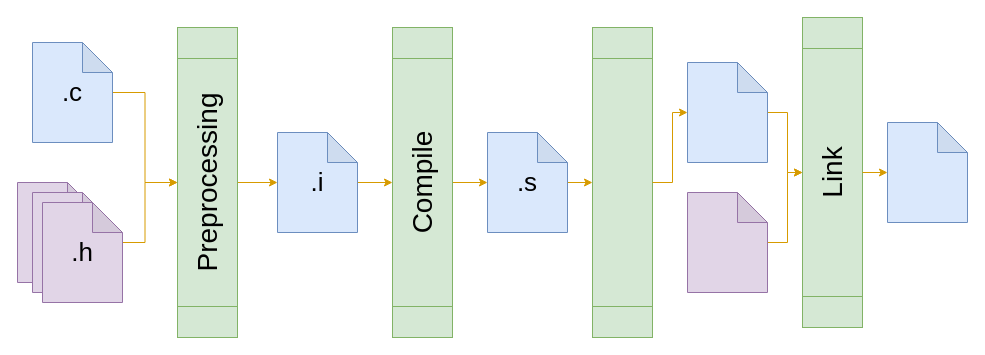
This 985x355 diagram has some shape labels left out. Each missing label, with the centre of its shape:
.o: the point at 727,112
Assemble: the point at 622,182
crt.o: the point at 727,242
exe: the point at 927,172
